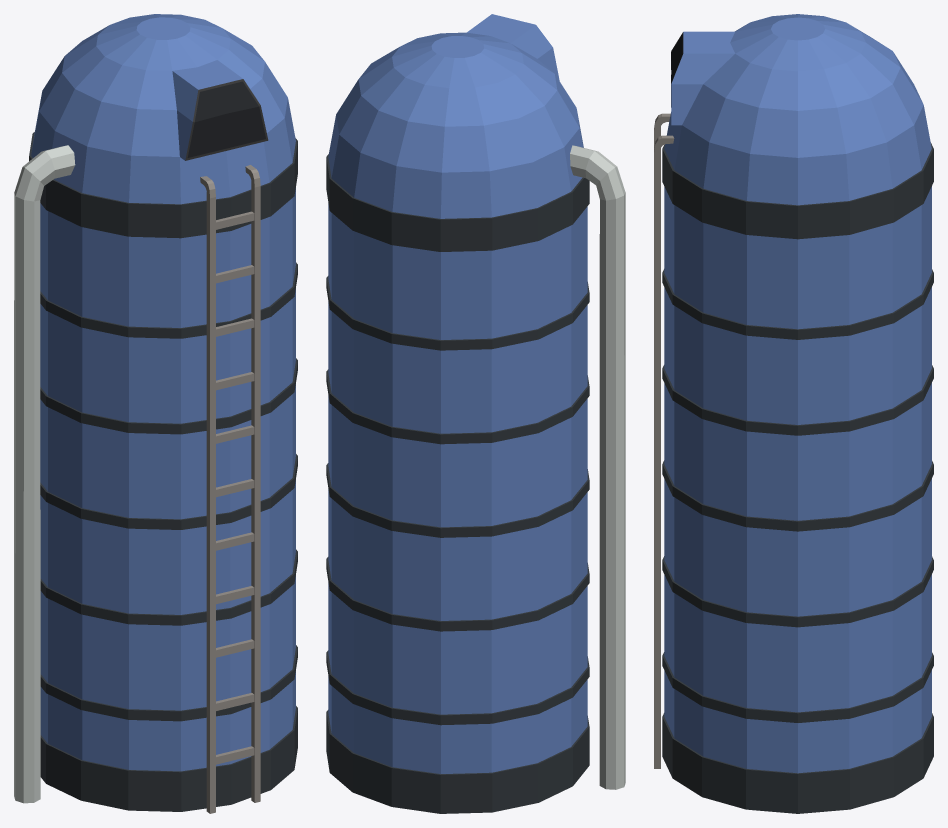
File: Cisterm_1.fbx
The picture shows the model from 3 angles, left to right: view 1: azimuth 30°, elevation 25°; view 2: azimuth 150°, elevation 25°; view 3: azimuth 270°, elevation 25°; orthographic projection. The views are drawn at different scales.
Parts seen in each view (by area): view 1: Cisterm_1; view 2: Cisterm_1; view 3: Cisterm_1.
Boxes of the visible parts, x1,y1,x2,y2 form: Cisterm_1: (14,14,297,813); Cisterm_1: (326,14,625,813); Cisterm_1: (654,14,933,813).
Size of the model in its own units: 333 by 836 by 291.
